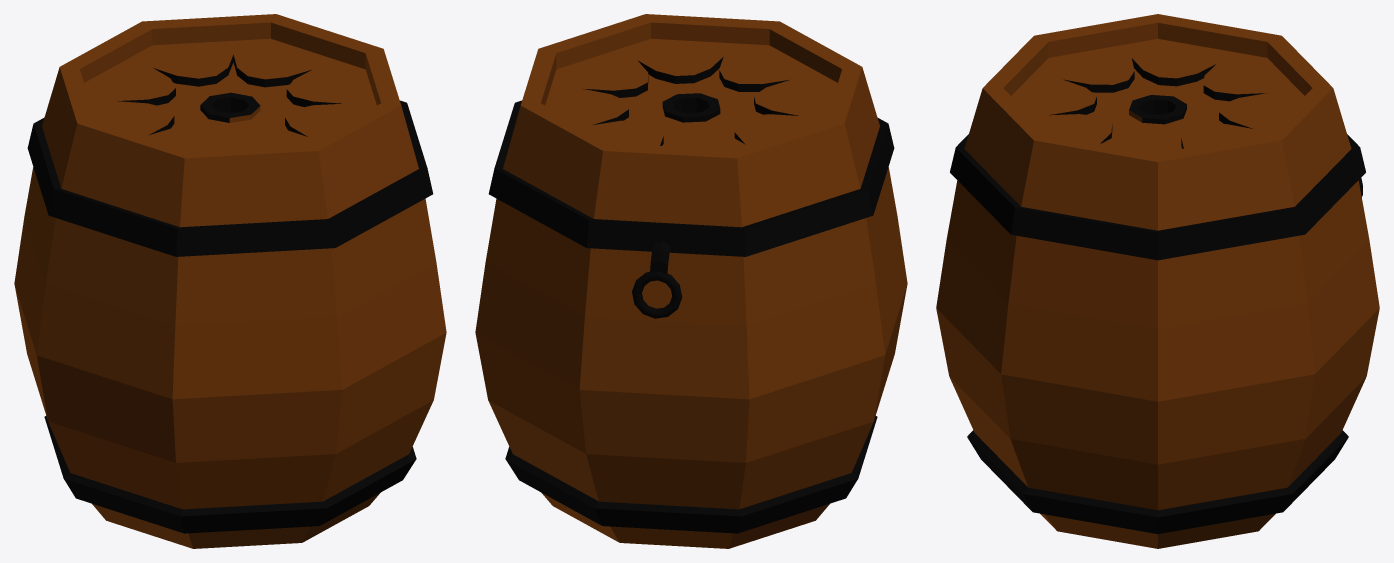
The model's file is Бочка.fbx.
3 renders of one model, left to right at view 1: azimuth 30°, elevation 25°; view 2: azimuth 150°, elevation 25°; view 3: azimuth 270°, elevation 25°, orthographic.
Visible parts, largest first — view 1: Torus; view 2: Torus; view 3: Torus.
Part boxes in pixels (x1=…): Torus: x1=14, y1=14, x2=446, y2=548; Torus: x1=475, y1=14, x2=907, y2=548; Torus: x1=936, y1=14, x2=1379, y2=548.
Size of the model in its own units: 274 by 273 by 274.
